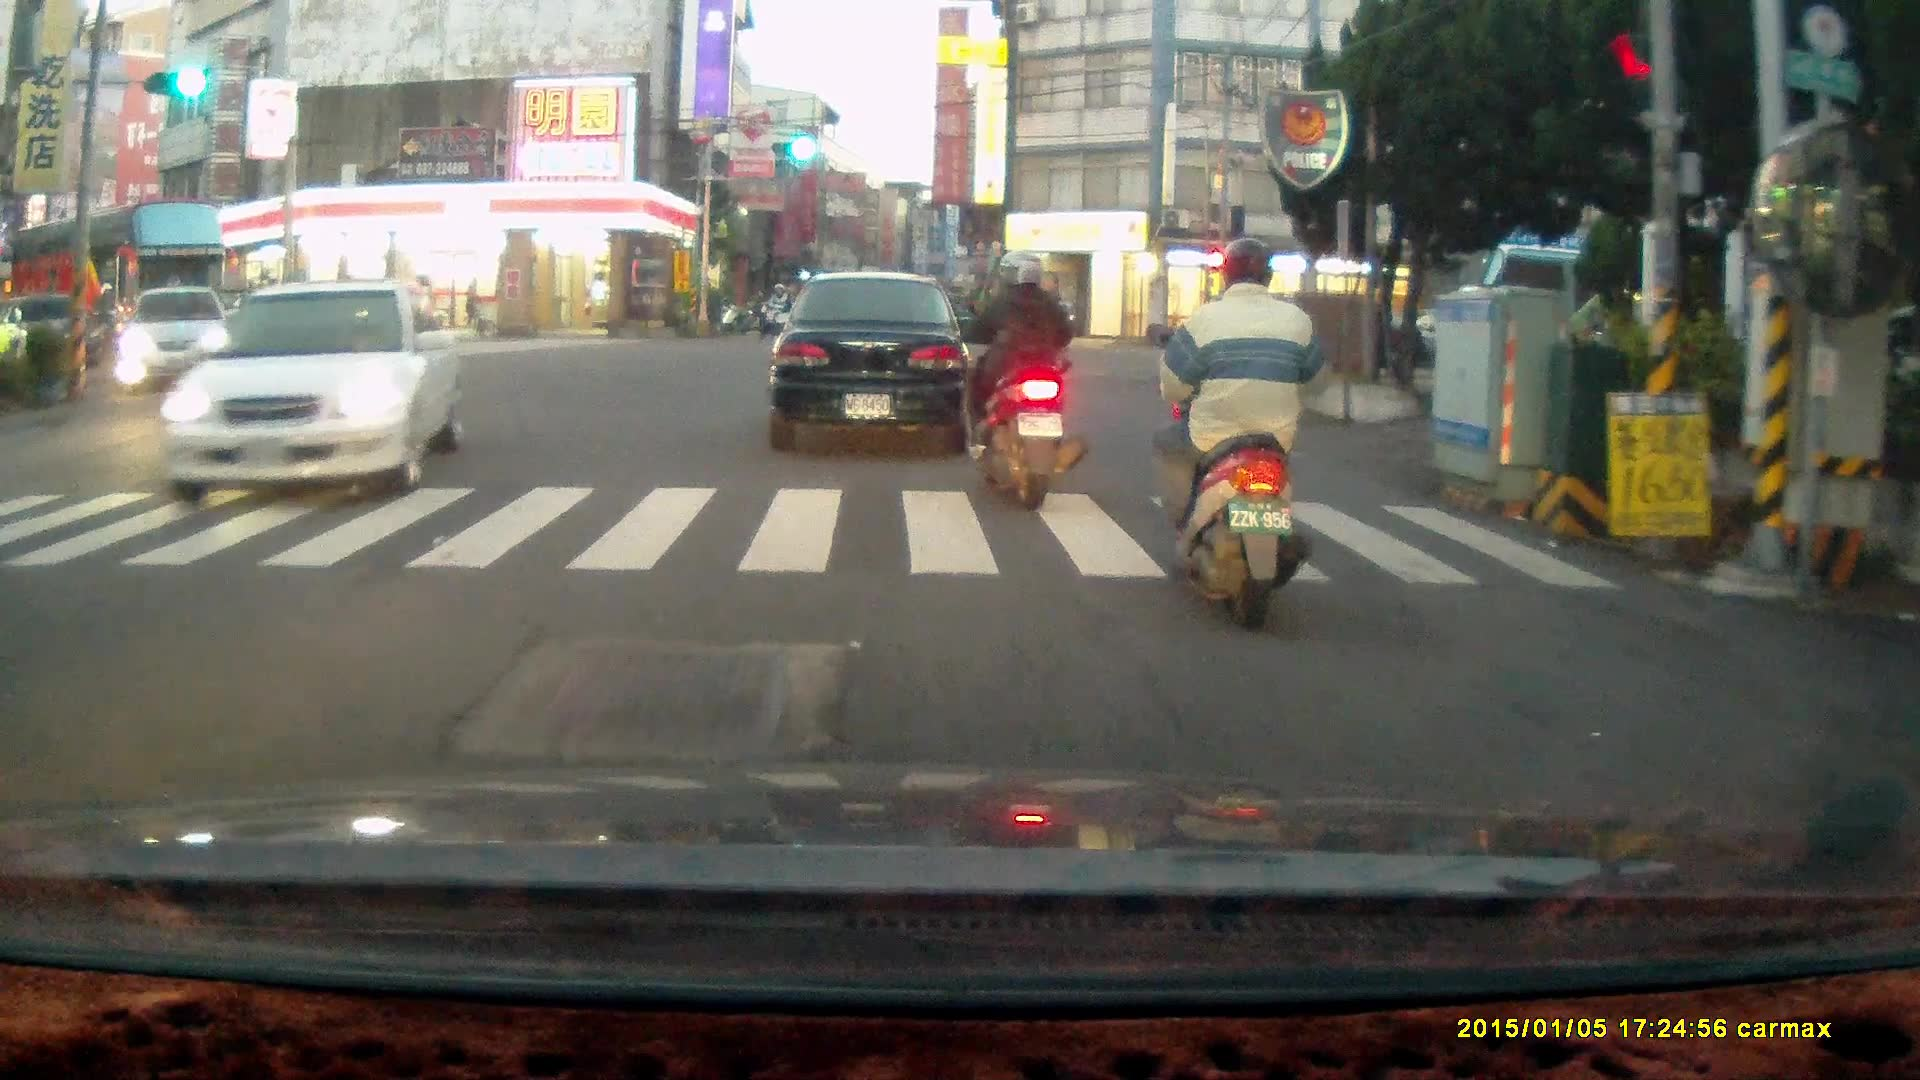rider: (1141, 233, 1323, 633), (950, 240, 1086, 505)
vehicle: (128, 279, 462, 505), (765, 270, 980, 455), (19, 198, 233, 354), (109, 283, 236, 393)
